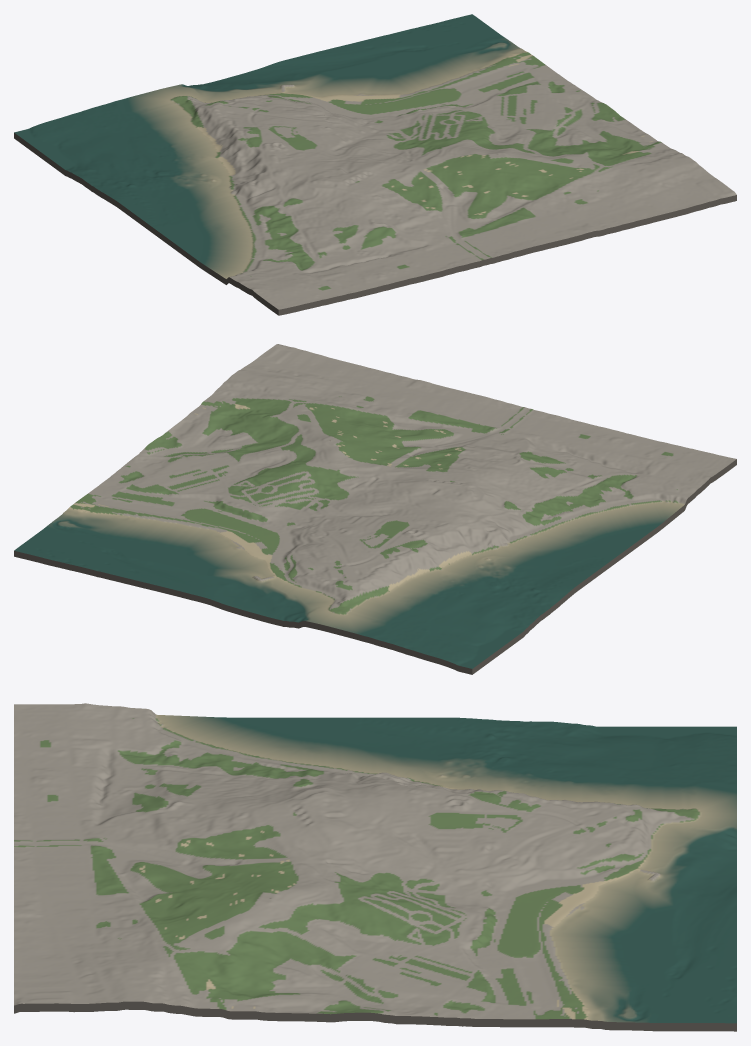
The model's file is terrain_1_2.glb.
3 views of the same model, one above another, from view 1: azimuth 30°, elevation 25°; view 2: azimuth 150°, elevation 25°; view 3: azimuth 270°, elevation 25° (orthographic). The views are drawn at different scales.
Parts seen in each view (by area): view 1: terrain_1_2; view 2: terrain_1_2; view 3: terrain_1_2.
Part boxes in pixels (x1,y1,x2,y2): terrain_1_2: (14,14,736,315); terrain_1_2: (14,344,736,674); terrain_1_2: (14,703,736,1031).
Size of the model in its own units: 3200 by 220 by 3200.
